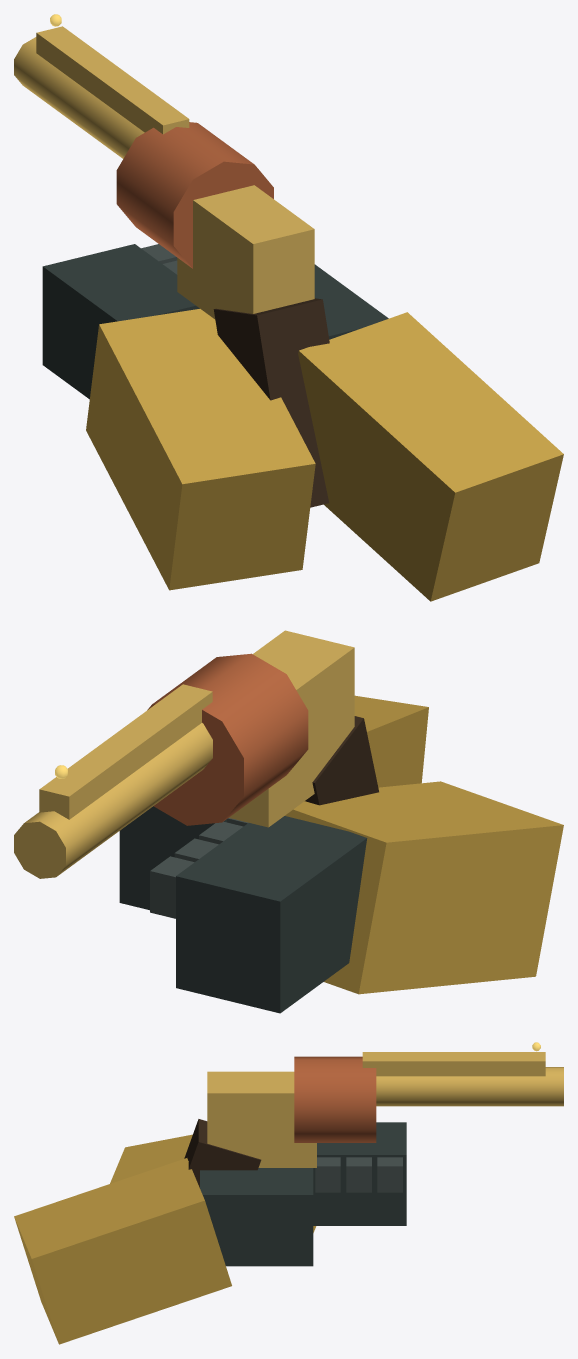
Rendered from lucky_penny_revolver.glb.
3 views of the same model, one above another, from view 1: azimuth 30°, elevation 25°; view 2: azimuth 150°, elevation 25°; view 3: azimuth 270°, elevation 25° (orthographic). The views are drawn at different scales.
Visible parts, largest first — view 1: _MeshInstance3D_3915, _MeshInstance3D_3909, _MeshInstance3D_3904, _MeshInstance3D_3908, Cylinder, _MeshInstance3D_3905, _MeshInstance3D_3902, _MeshInstance3D_3901, _MeshInstance3D_3914; view 2: _MeshInstance3D_3909, _MeshInstance3D_3908, Cylinder, _MeshInstance3D_3904, _MeshInstance3D_3901, _MeshInstance3D_3902, _MeshInstance3D_3915, _MeshInstance3D_3914, _MeshInstance3D_3905, _MeshInstance3D_3910, _MeshInstance3D_3911, _MeshInstance3D_3912; view 3: _MeshInstance3D_3915, _MeshInstance3D_3914, _MeshInstance3D_3904, Cylinder, _MeshInstance3D_3901, _MeshInstance3D_3908, _MeshInstance3D_3902, _MeshInstance3D_3909, _MeshInstance3D_3905, _MeshInstance3D_3910, _MeshInstance3D_3911, _MeshInstance3D_3912.
Boxes of the visible parts, <box> form: _MeshInstance3D_3915: <box>298,312,563,601</box>; _MeshInstance3D_3909: <box>86,309,315,590</box>; _MeshInstance3D_3904: <box>177,185,314,319</box>; _MeshInstance3D_3908: <box>42,244,199,399</box>; Cylinder: <box>116,122,273,268</box>; _MeshInstance3D_3905: <box>213,298,329,507</box>; _MeshInstance3D_3902: <box>36,26,189,134</box>; _MeshInstance3D_3901: <box>14,37,144,158</box>; _MeshInstance3D_3914: <box>314,264,388,339</box>; _MeshInstance3D_3909: <box>285,781,563,994</box>; _MeshInstance3D_3908: <box>176,816,367,1013</box>; Cylinder: <box>147,653,308,825</box>; _MeshInstance3D_3904: <box>229,630,354,827</box>; _MeshInstance3D_3901: <box>14,723,212,878</box>; _MeshInstance3D_3902: <box>39,684,212,819</box>; _MeshInstance3D_3915: <box>354,695,428,787</box>; _MeshInstance3D_3914: <box>119,806,226,910</box>; _MeshInstance3D_3905: <box>305,716,378,805</box>; _MeshInstance3D_3910: <box>150,856,194,918</box>; _MeshInstance3D_3911: <box>174,838,218,862</box>; _MeshInstance3D_3912: <box>199,821,243,844</box>; _MeshInstance3D_3915: <box>14,1158,231,1344</box>; _MeshInstance3D_3914: <box>200,1168,313,1266</box>; _MeshInstance3D_3904: <box>207,1071,316,1167</box>; Cylinder: <box>294,1056,376,1142</box>; _MeshInstance3D_3901: <box>376,1067,563,1106</box>; _MeshInstance3D_3908: <box>313,1122,406,1225</box>; _MeshInstance3D_3902: <box>362,1052,545,1076</box>; _MeshInstance3D_3909: <box>110,1134,316,1232</box>; _MeshInstance3D_3905: <box>184,1119,261,1187</box>; _MeshInstance3D_3910: <box>377,1157,402,1192</box>; _MeshInstance3D_3911: <box>346,1157,371,1192</box>; _MeshInstance3D_3912: <box>315,1157,340,1192</box>.
Size of the model in its own units: 0.1445 by 0.1497 by 0.3007.
